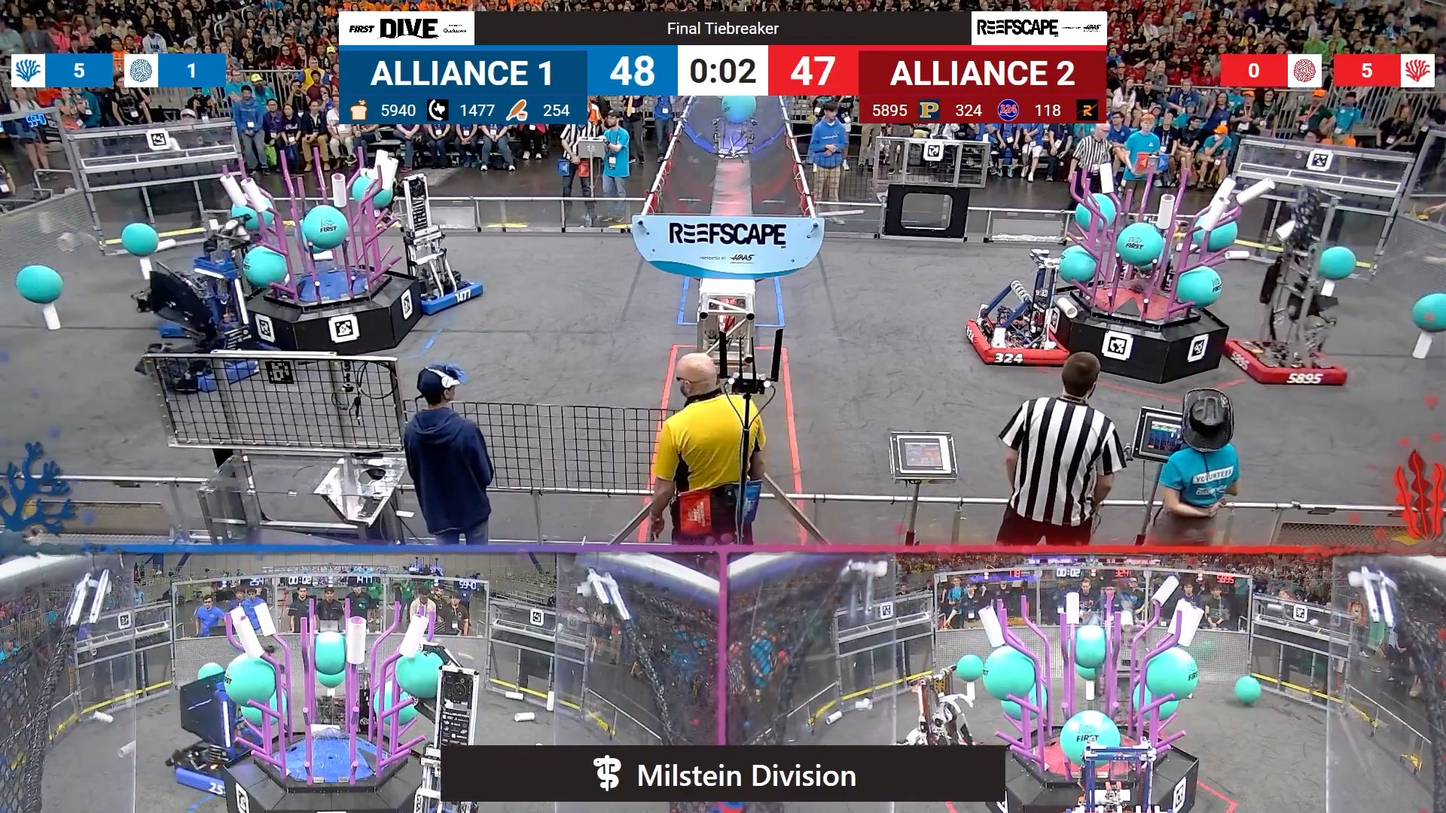bumpers: (963, 315, 1077, 376), (1224, 337, 1353, 390), (160, 343, 263, 392), (397, 271, 492, 319), (167, 746, 243, 794), (151, 307, 241, 341)
